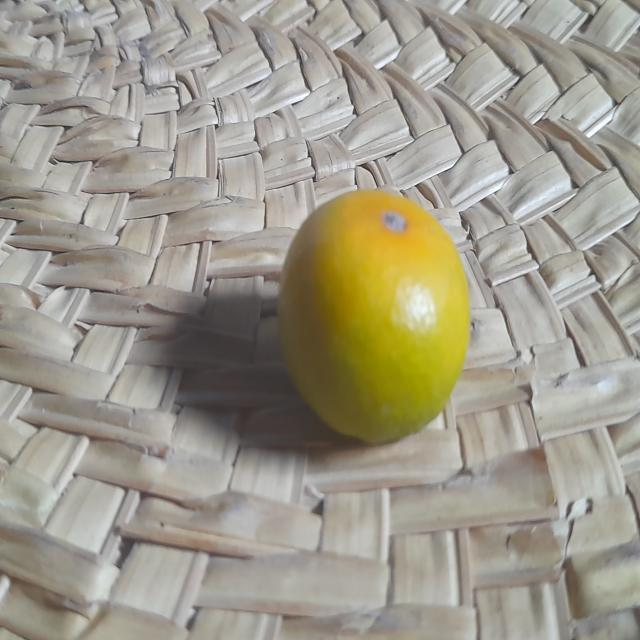greening: (276, 187, 476, 455)
